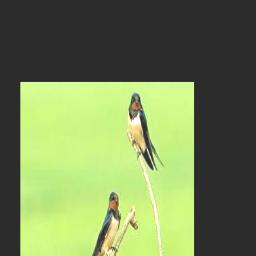Swallow: (127, 92, 164, 171), (79, 191, 121, 256)
